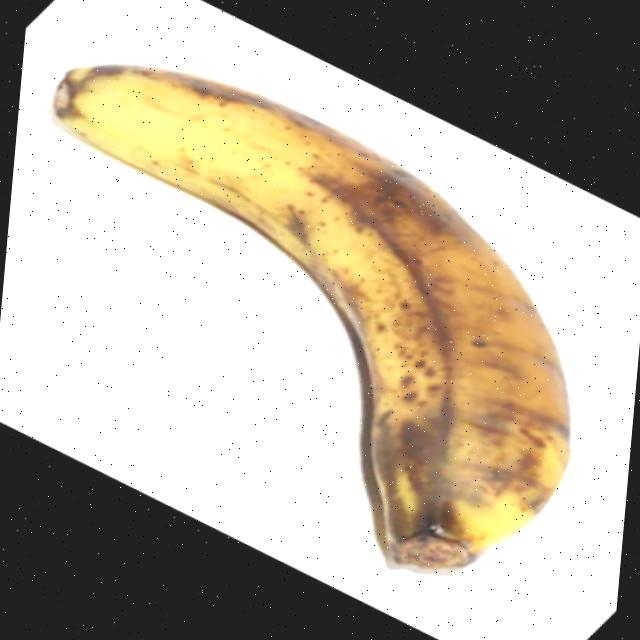overripe: (10, 55, 608, 582)
